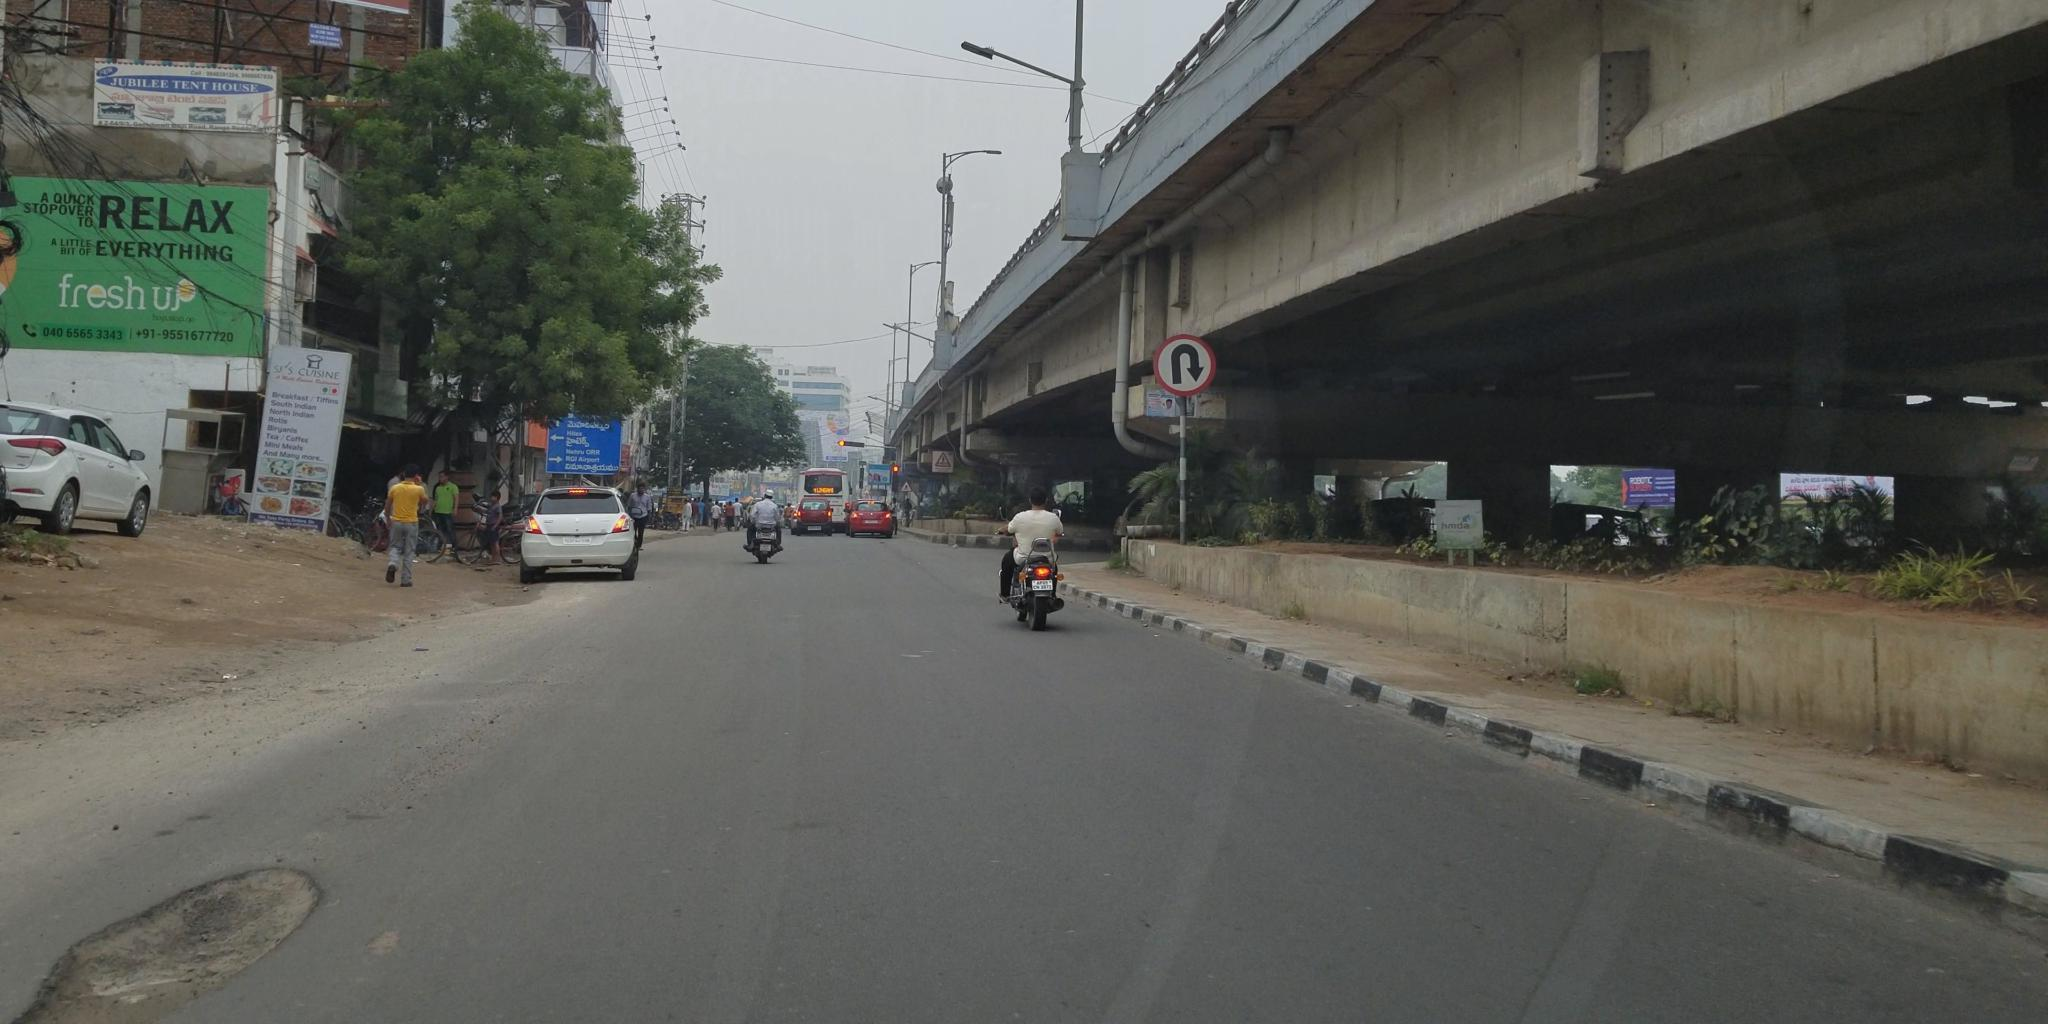off: (0, 72, 2036, 927)
